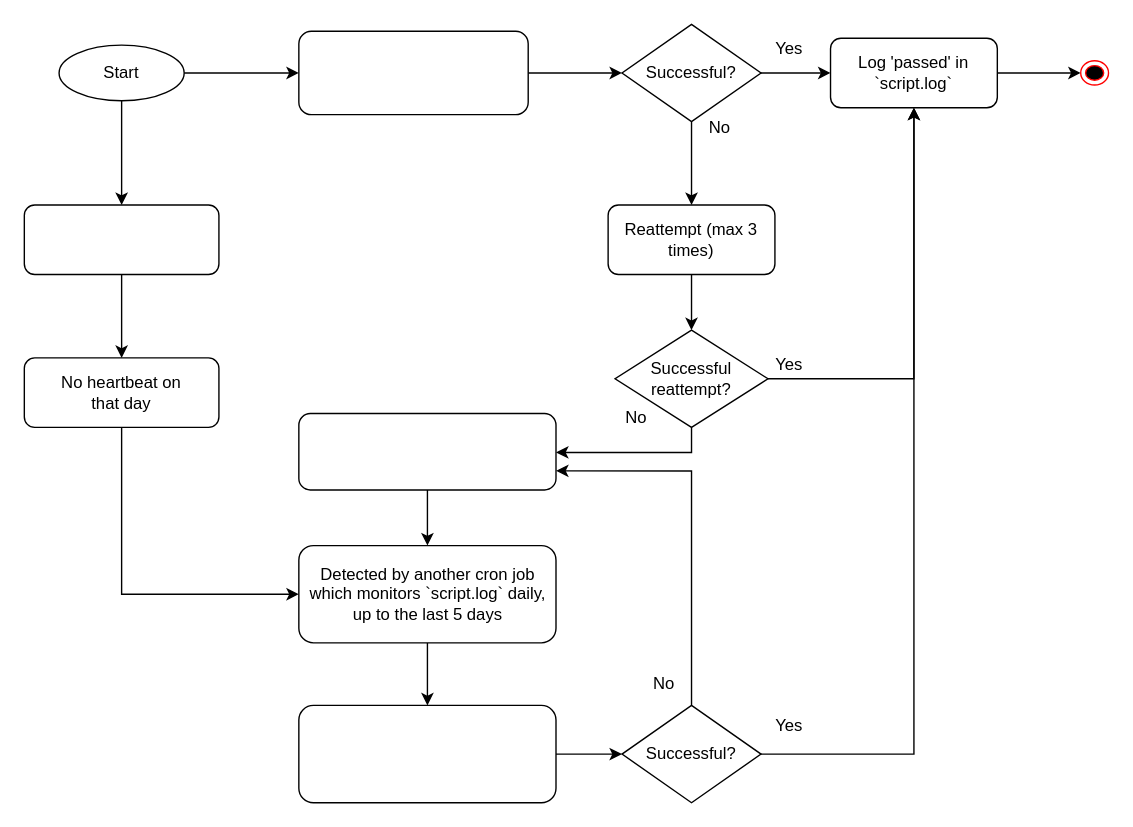
This 1133x827 diagram has some shape labels left out. Here are the shapes that lost their labels. From the top down, the centre of each, then its label:
[412,72]: Cron job runs python `main.py` daily
[121,239]: Server down, cron job failed to run
[426,451]: Log 'failed' in `script.log`
[426,753]: Triggers recovery mode to re-download data on specific dates
